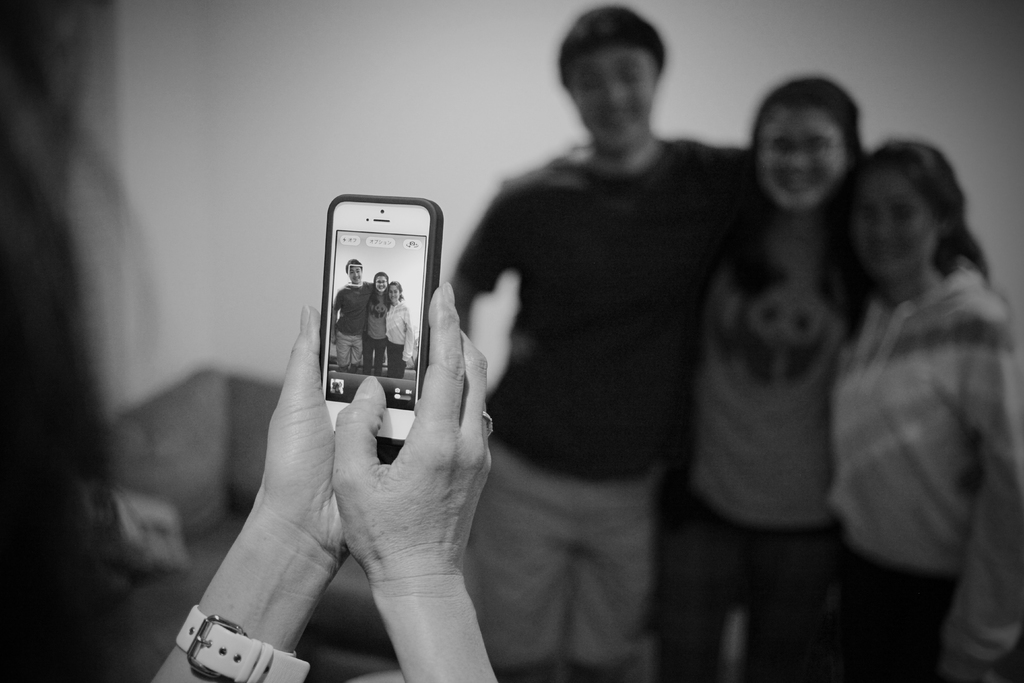Mobile-phone: (312, 190, 452, 439)
